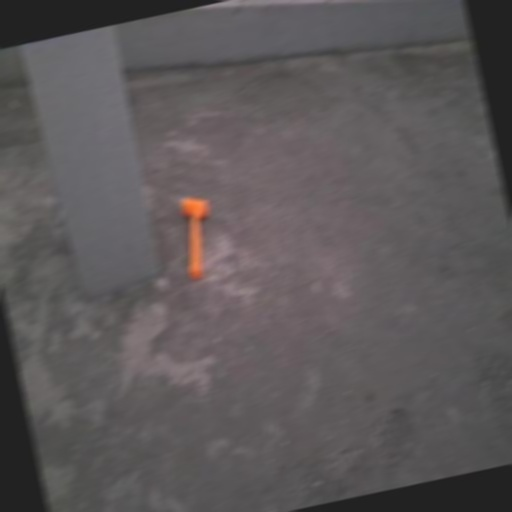mallet: (178, 190, 220, 276)
